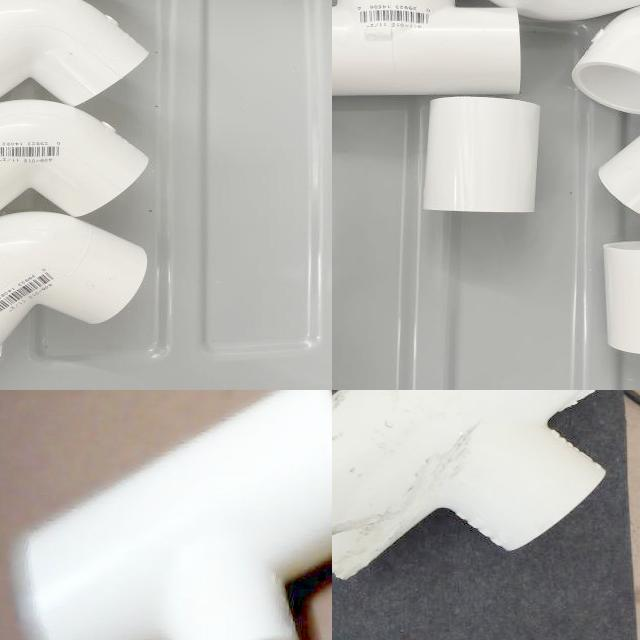Defective: (373, 426, 490, 515), (332, 511, 408, 580)
L Joint: (0, 214, 150, 348), (0, 100, 149, 218)
T Joint: (12, 390, 332, 640), (332, 0, 522, 100)
